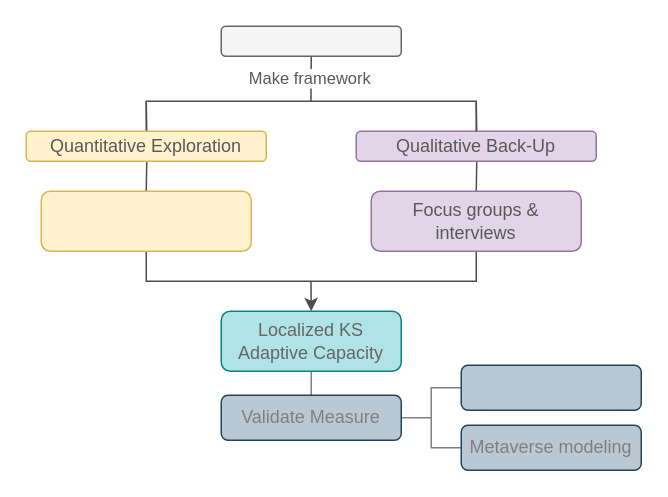
Image size: 668x497. Some labels were removed from this diagram. The shapes that lost their labels are listed below. From the top down, each one's centre as x and y in pixels, then its label:
At point (310, 40): "Literature Review".
At point (145, 220): "Use secondary data to run the framework".
At point (550, 387): "Historic Data".
